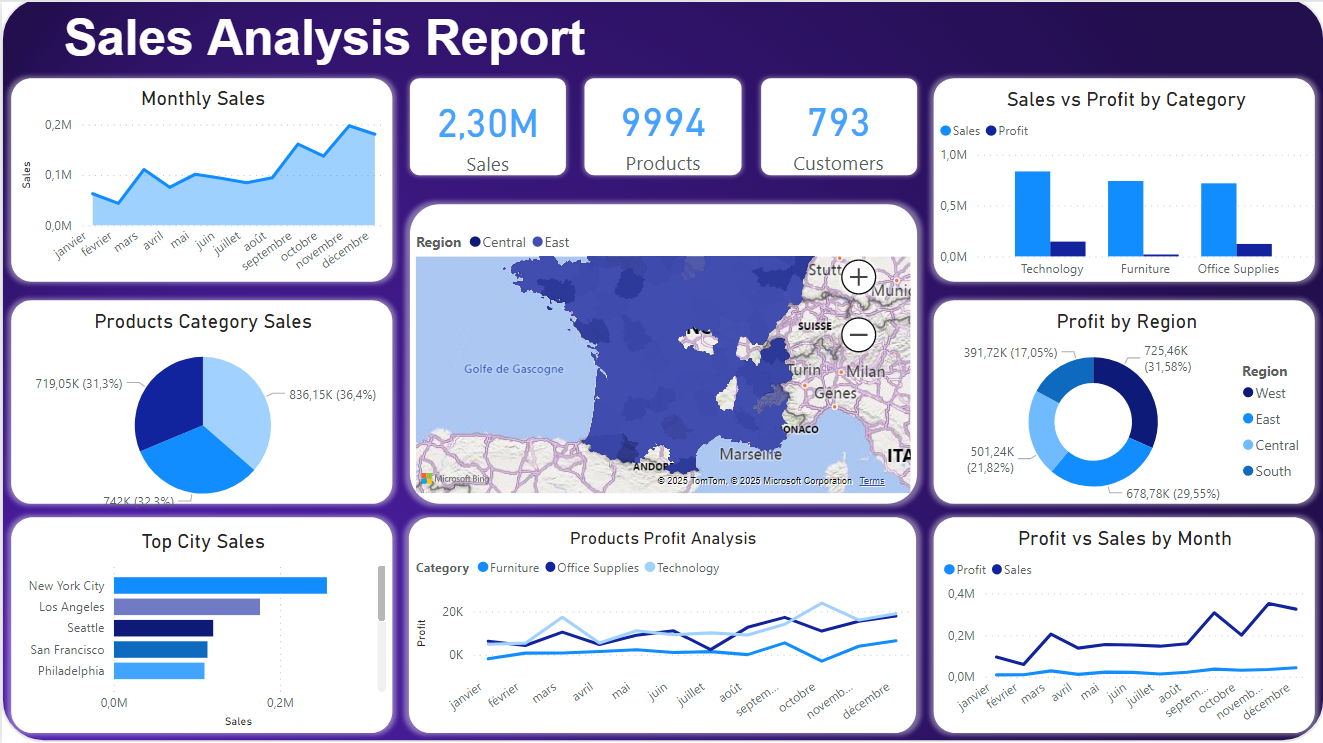

Layout of this report page (visuals, bound fields, positions):
{"tool":"powerbi","page":{"name":"Sales Report","canvas":[1280,720],"ordinal":0},"visuals":[{"type":"stackedAreaChart","title":"Monthly Sales","fields":{"Category":["Orders.Order Date.Variation.Hiérarchie de dates.Mois"],"Y":["Sum(Orders.Sales)"]},"box":[13.6,82.7,362.9,193.8],"z":0},{"type":"pieChart","title":"Products Category Sales","fields":{"Category":["Orders.Category"],"Y":["Sum(Orders.Sales)"]},"box":[13.6,297.5,362.9,202.4],"z":1000},{"type":"lineChart","title":"Products Profit Analysis","fields":{"Y":["Sum(Orders.Profit)"],"Series":["Orders.Category"],"Category":["Orders.Order Date.Variation.Hiérarchie de dates.Mois"]},"box":[395.7,508.2,488.9,199.7],"z":2000},{"type":"card","fields":{"Values":["Sum(Orders.Sales)"]},"box":[396.2,75.3,149.4,101.2],"z":3000},{"type":"card","fields":{"Values":["Count(Orders.Customer ID)"]},"box":[734.4,75.3,150.6,100],"z":5000},{"type":"clusteredBarChart","title":"Top City Sales","fields":{"Category":["Orders.City"],"Y":["Sum(Orders.Sales)"]},"box":[13.3,510.7,363,197.2],"z":6000},{"type":"clusteredColumnChart","title":"Sales vs Profit by Category","fields":{"Category":["Orders.Category"],"Y":["Sum(Orders.Sales)","Sum(Orders.Profit)"]},"box":[902.3,83.9,371.5,193.8],"z":7000},{"type":"donutChart","title":"Profit by Region","fields":{"Y":["Sum(Orders.Sales)"],"Category":["Orders.Region"]},"box":[907.2,297.5,362.9,196.3],"z":8000},{"type":"lineChart","title":"Profit vs Sales by Month","fields":{"Category":["Orders.Order Date.Variation.Hiérarchie de dates.Mois"],"Y":["Sum(Orders.Profit)","Sum(Orders.Sales)"]},"box":[906,508.5,361.7,200],"z":9000},{"type":"card","fields":{"Values":["CountNonNull(Orders.Product ID)"]},"box":[559.2,75.3,161.7,100],"z":10000},{"type":"filledMap","fields":{"Category":["Orders.Sales"],"Series":["Orders.Region"]},"box":[395.7,211.8,488.9,268.6],"z":11000}]}

Visuals, with their boxes in screenshot pixels (x1, y1, x2, y2), scaled from the page's 1280x720 canvas onto the 1323x743 screenshot:
"Monthly Sales" stackedAreaChart: BBox(14, 85, 389, 285)
"Products Category Sales" pieChart: BBox(14, 307, 389, 516)
"Products Profit Analysis" lineChart: BBox(409, 524, 914, 731)
card - Sum(Orders.Sales): BBox(410, 78, 564, 182)
card - Count(Orders.Customer ID): BBox(759, 78, 915, 181)
"Top City Sales" clusteredBarChart: BBox(14, 527, 389, 731)
"Sales vs Profit by Category" clusteredColumnChart: BBox(933, 87, 1317, 287)
"Profit by Region" donutChart: BBox(938, 307, 1313, 510)
"Profit vs Sales by Month" lineChart: BBox(936, 525, 1310, 731)
card - CountNonNull(Orders.Product ID): BBox(578, 78, 745, 181)
filledMap - Orders.Sales x Orders.Region: BBox(409, 219, 914, 496)
